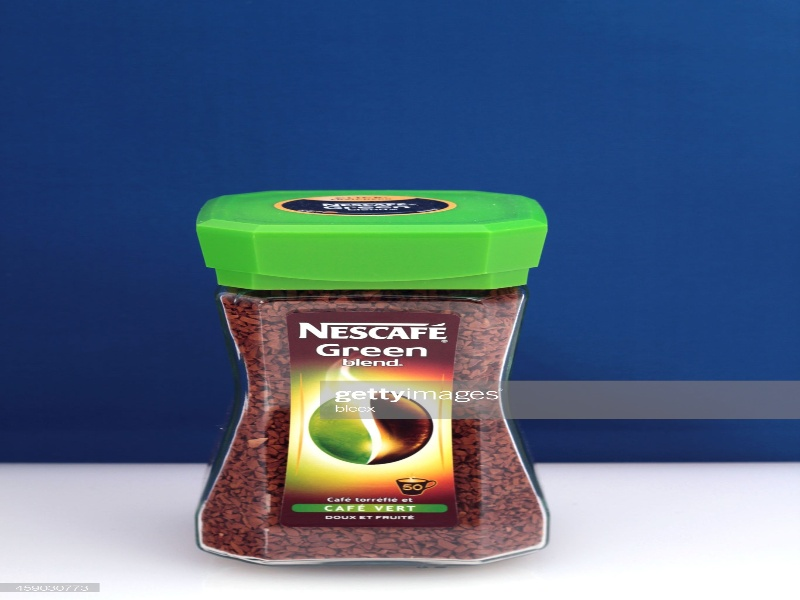nescafe-classic/gold-small: (189, 195, 554, 554)
